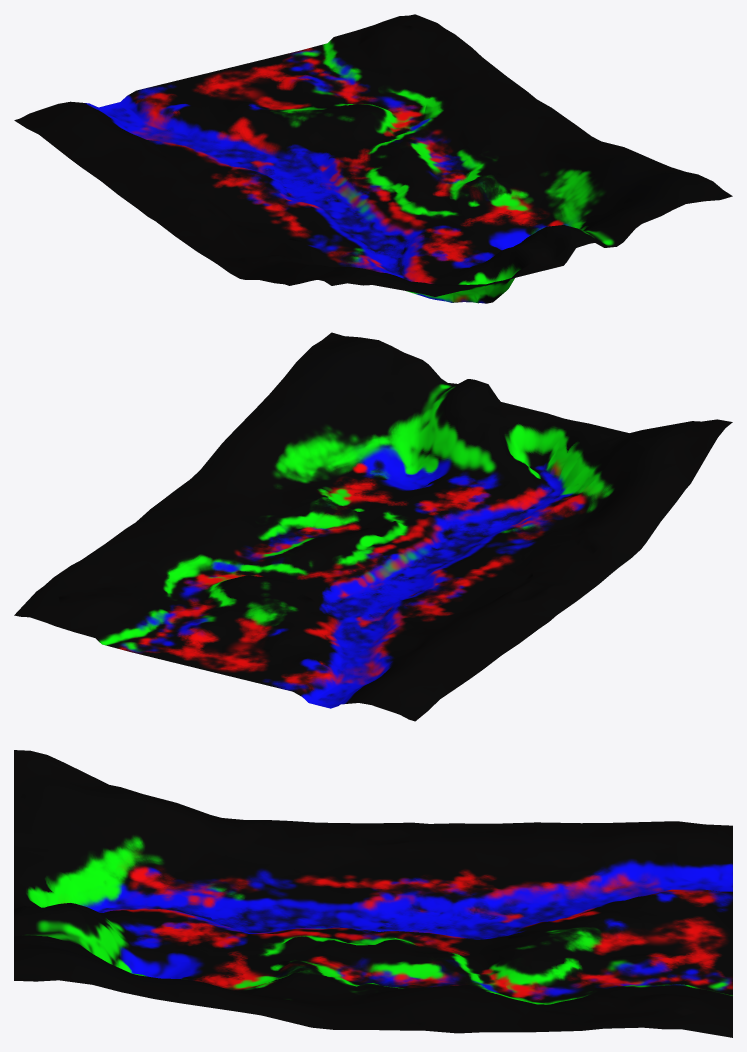
The model's file is TerrainOptimization.fbx.
The picture shows the model from 3 angles, top to bottom: view 1: azimuth 30°, elevation 25°; view 2: azimuth 150°, elevation 25°; view 3: azimuth 270°, elevation 25°; orthographic projection. The views are drawn at different scales.
Parts seen in each view (by area): view 1: default; view 2: default; view 3: default.
Part boxes in pixels (bbox=[...]): default: bbox=[14, 14, 732, 303]; default: bbox=[14, 332, 732, 721]; default: bbox=[14, 750, 732, 1037].
Bounding box in the file's own units: 3473 × 652 × 4763.
Materials: 1 (1 with a texture image).
